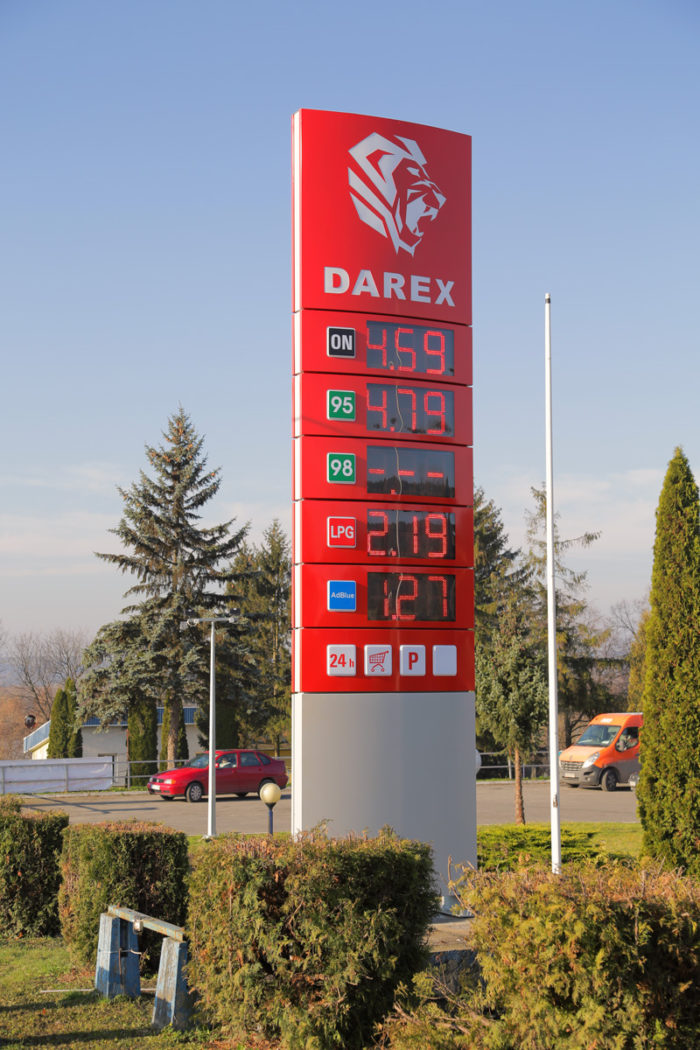ON: (325, 323, 355, 357)
PB95: (325, 385, 359, 426), (325, 515, 357, 548)
PB98: (325, 449, 356, 483)
